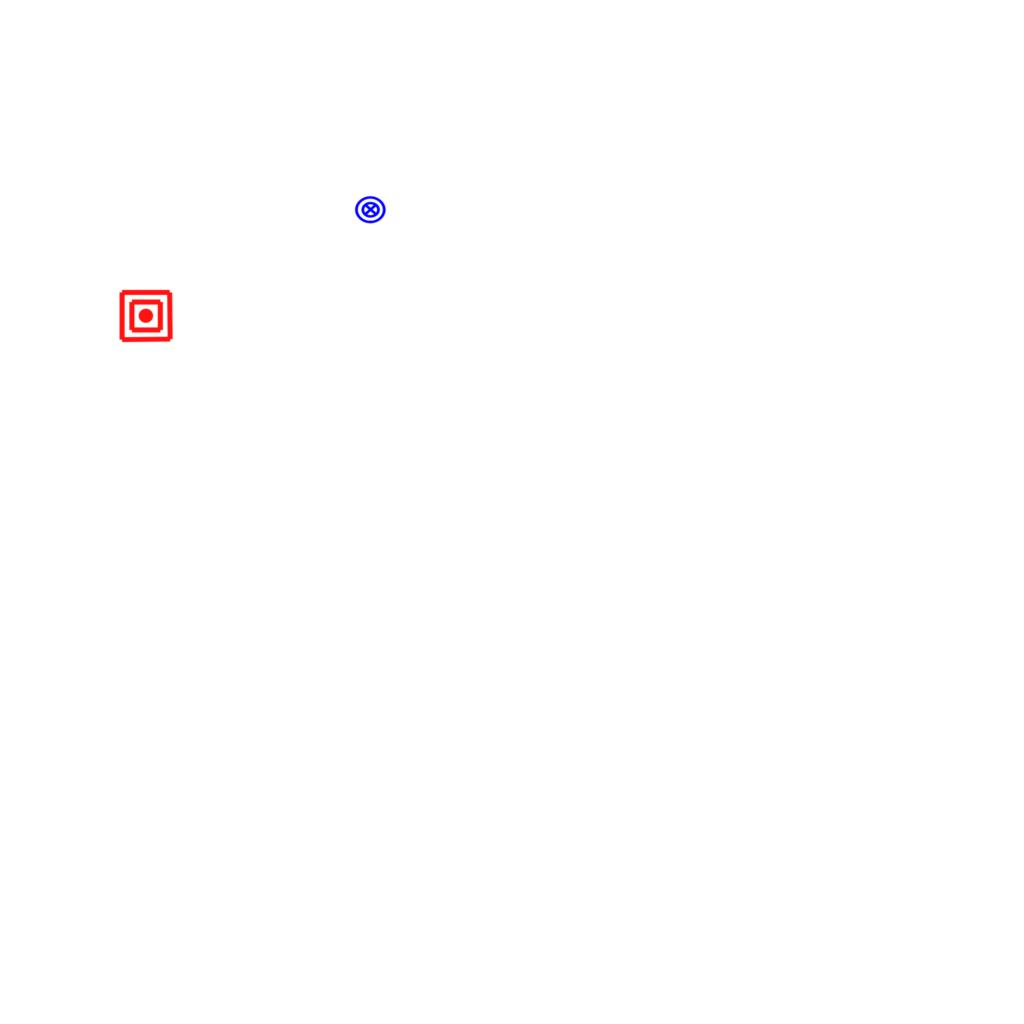NAM-Nichtautomatischer_Melder: (118, 288, 174, 344)
Taster_beleuchtet: (354, 193, 387, 226)
